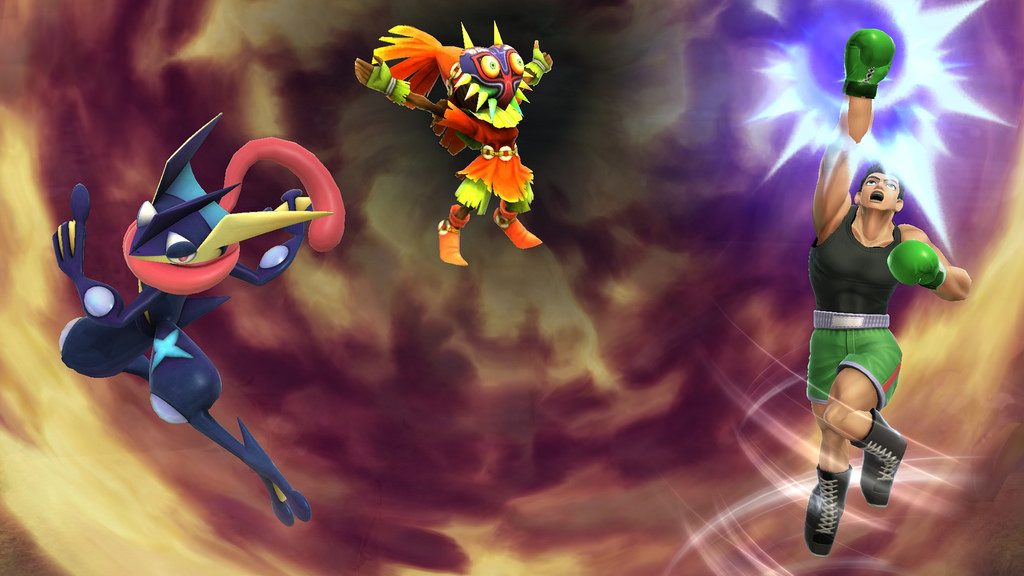greninja: (56, 114, 356, 558)
